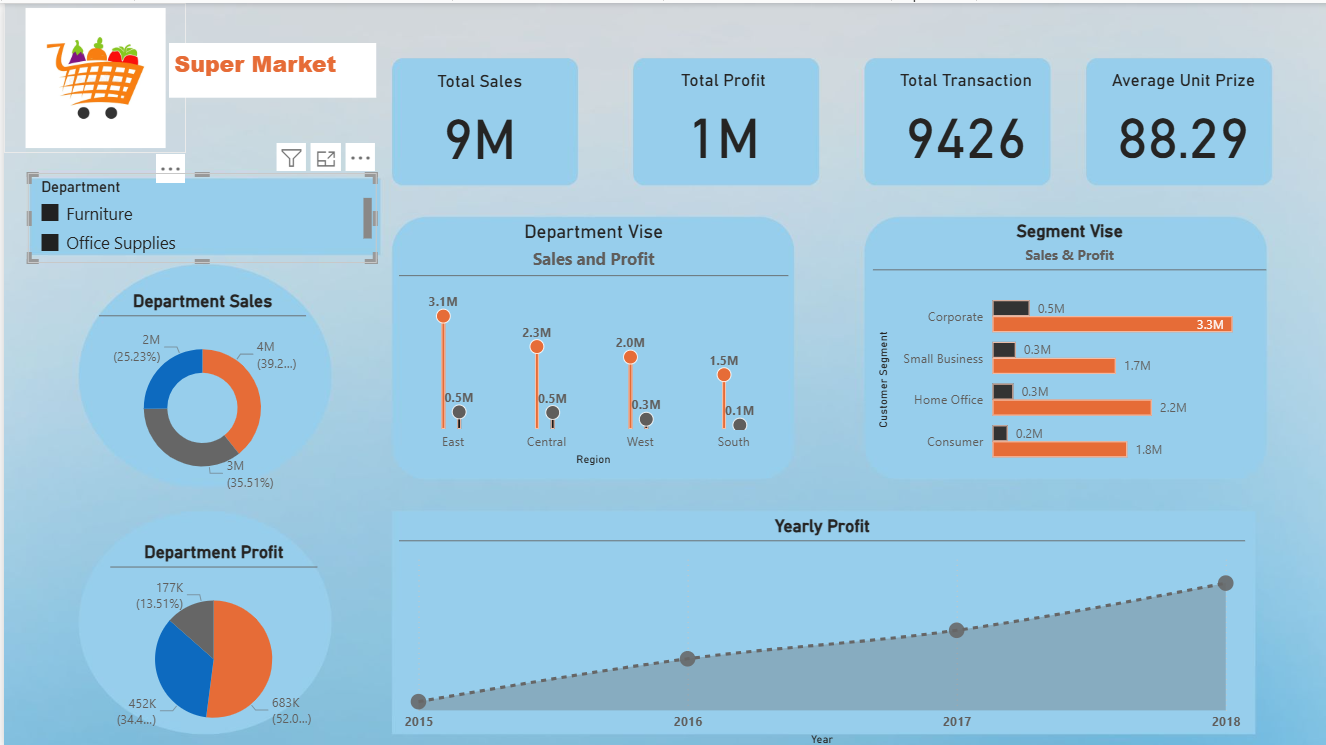

The dashboard page shown, as its layout file describes it:
{"tool":"powerbi","page":{"name":"Page 1","canvas":[1280,720],"ordinal":0},"visuals":[{"type":"card","title":"Total Sales ","fields":{"Values":["Sum(superstore.Sales)"]},"box":[369.7,64.9,180,100],"z":0},{"type":"card","title":"Total Profit","fields":{"Values":["Sum(superstore.Profit)"]},"box":[604.2,64.2,180,100],"z":1000},{"type":"card","title":"Total Transaction","fields":{"Values":["CountNonNull(superstore.Order ID)"]},"box":[838.9,64.2,180,100],"z":2000},{"type":"card","title":"Average Unit Prize","fields":{"Values":["Avg(superstore.Unit Price)"]},"box":[1048.6,64.3,180,100],"z":3000},{"type":"clusteredColumnChart","title":"Department Vise ","fields":{"Category":["superstore.Region"],"Y":["Sum(superstore.Sales)","Sum(superstore.Profit)"]},"box":[381.4,210,375.7,240],"z":4000},{"type":"clusteredBarChart","title":"Segment Vise ","fields":{"Y":["Sum(superstore.Profit)","Sum(superstore.Sales)"],"Category":["superstore.Customer Segment"]},"box":[838.6,210,380,250],"z":5000},{"type":"lineChart","title":"Yearly Profit ","fields":{"Category":["superstore.Year"],"Y":["Sum(superstore.Profit)"]},"box":[381.4,494.3,817.1,225.7],"z":6000},{"type":"pieChart","title":"Department Profit","fields":{"Y":["Sum(superstore.Profit)"],"Category":["superstore.Department"]},"box":[102.9,520,200,200],"z":7000},{"type":"donutChart","title":"Department Sales","fields":{"Y":["Sum(superstore.Sales)"],"Category":["superstore.Department"]},"box":[91.4,277.1,200,200],"z":8000},{"type":"slicer","fields":{"Values":["superstore.Department"]},"box":[22.9,164.3,337.1,87.1],"z":9000},{"type":"image","box":[0,0,176.1,144.8],"z":10000},{"type":"textbox","box":[159.3,38.6,200.3,53.1],"z":10001}]}

Visuals, with their boxes in screenshot pixels (x1, y1, x2, y2), scaled from the page's 1280x720 canvas onto the 1326x745 screenshot:
"Total Sales " card: {"x1": 383, "y1": 67, "x2": 569, "y2": 171}
"Total Profit" card: {"x1": 626, "y1": 66, "x2": 812, "y2": 170}
"Total Transaction" card: {"x1": 869, "y1": 66, "x2": 1056, "y2": 170}
"Average Unit Prize" card: {"x1": 1086, "y1": 67, "x2": 1273, "y2": 170}
"Department Vise " clusteredColumnChart: {"x1": 395, "y1": 217, "x2": 784, "y2": 466}
"Segment Vise " clusteredBarChart: {"x1": 869, "y1": 217, "x2": 1262, "y2": 476}
"Yearly Profit " lineChart: {"x1": 395, "y1": 511, "x2": 1242, "y2": 744}
"Department Profit" pieChart: {"x1": 107, "y1": 538, "x2": 314, "y2": 744}
"Department Sales" donutChart: {"x1": 95, "y1": 287, "x2": 302, "y2": 494}
slicer - superstore.Department: {"x1": 24, "y1": 170, "x2": 373, "y2": 260}
image: {"x1": 0, "y1": 0, "x2": 182, "y2": 150}
textbox: {"x1": 165, "y1": 40, "x2": 373, "y2": 95}
